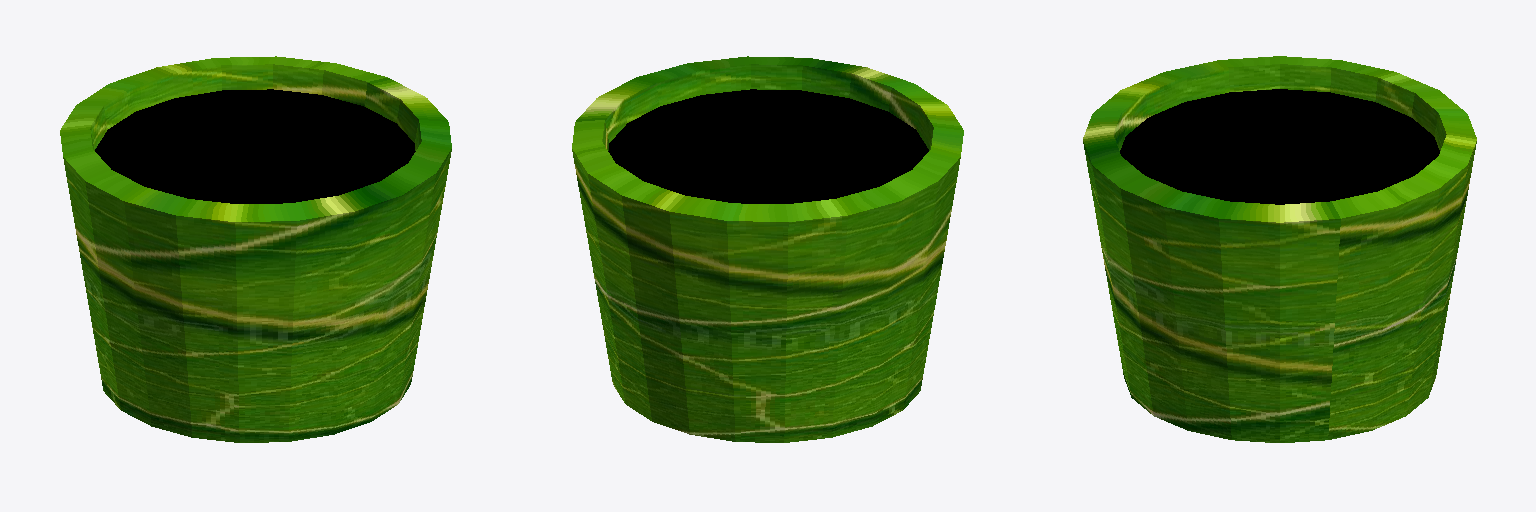
3 views of the same model, side by side, from view 1: azimuth 30°, elevation 25°; view 2: azimuth 150°, elevation 25°; view 3: azimuth 270°, elevation 25° (orthographic).
Parts seen in each view (by area): view 1: pCylinder1, pSphere1; view 2: pCylinder1, pSphere1; view 3: pCylinder1, pSphere1.
Boxes of the visible parts, <box> form: pCylinder1: <box>60,56,451,442</box>; pSphere1: <box>95,89,415,203</box>; pCylinder1: <box>572,56,963,442</box>; pSphere1: <box>608,89,928,203</box>; pCylinder1: <box>1083,56,1476,442</box>; pSphere1: <box>1120,89,1439,204</box>.
Bounding box in the file's own units: 3.22 × 2.19 × 3.22.
2 materials, 1 textured.